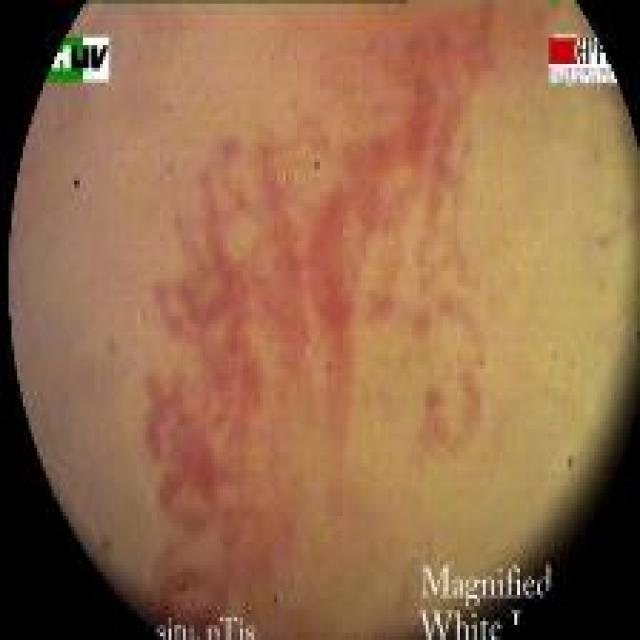color misalignment: (420, 566, 550, 640), (547, 31, 619, 87), (47, 34, 111, 86), (151, 612, 255, 640), (563, 455, 577, 472), (310, 155, 323, 173), (69, 177, 82, 194), (269, 596, 279, 607)
